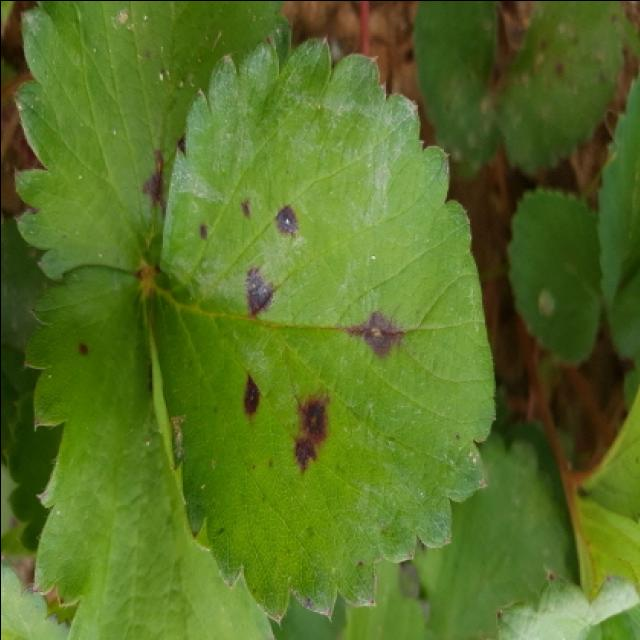Leaf Spot: (150, 34, 495, 625), (21, 263, 275, 640), (10, 2, 293, 280), (487, 2, 631, 177)
